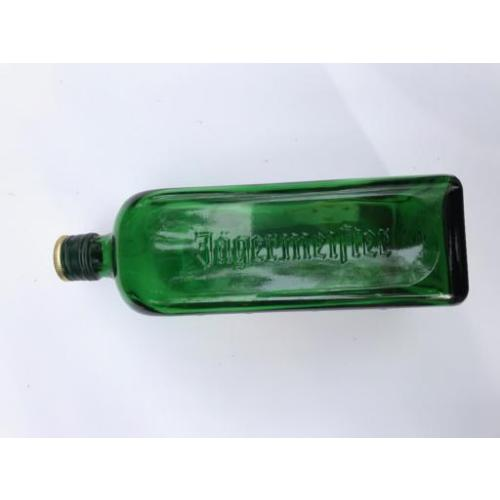glass: (54, 174, 468, 319)
